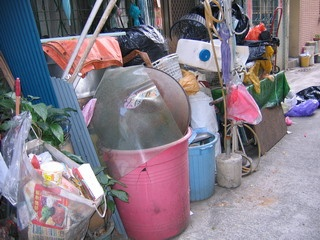bowl: (90, 67, 194, 149), (39, 161, 64, 184)
bucket: (98, 127, 192, 240), (189, 127, 218, 202), (174, 37, 221, 72), (298, 54, 311, 67)
plastic_bag: (120, 25, 168, 66), (284, 86, 320, 116)
